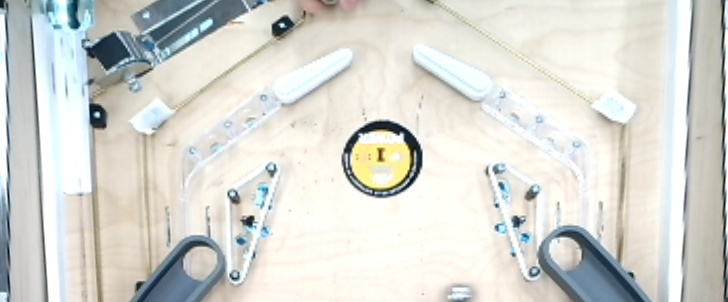ball: (441, 282, 479, 302)
flipper-left: (407, 41, 499, 116)
flipper-right: (271, 42, 355, 115)
